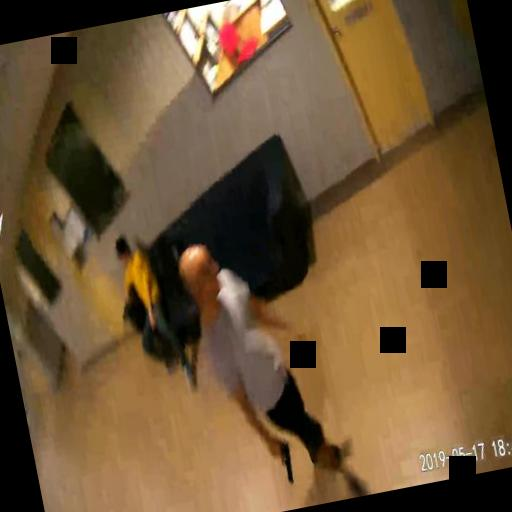Handgun: (266, 436, 295, 486)
